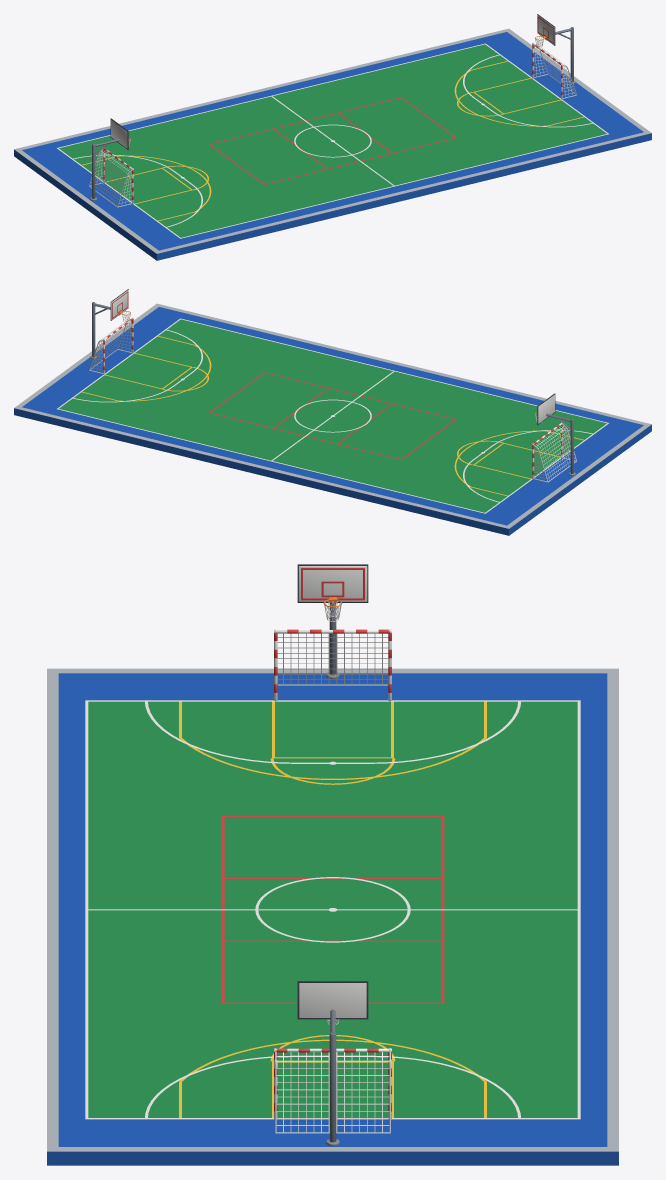
Rendered from quadra_poliesportiva.glb.
The picture shows the model from 3 angles, top to bottom: view 1: azimuth 30°, elevation 25°; view 2: azimuth 150°, elevation 25°; view 3: azimuth 270°, elevation 25°; orthographic projection. The views are drawn at different scales.
Visible parts, largest first — view 1: quadra_poliesportiva; view 2: quadra_poliesportiva; view 3: quadra_poliesportiva.
Boxes of the visible parts, x1,y1,x2,y2 form: quadra_poliesportiva: (14,14,651,260); quadra_poliesportiva: (14,289,651,535); quadra_poliesportiva: (47,564,618,1165).
Size of the model in its own units: 30 by 4.38 by 15.
1 material, 1 textured.
